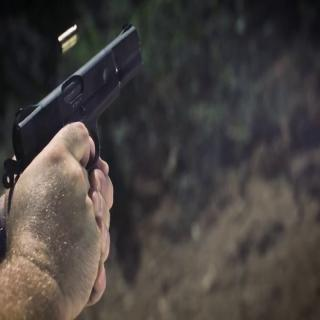gun: (4, 20, 144, 290)
